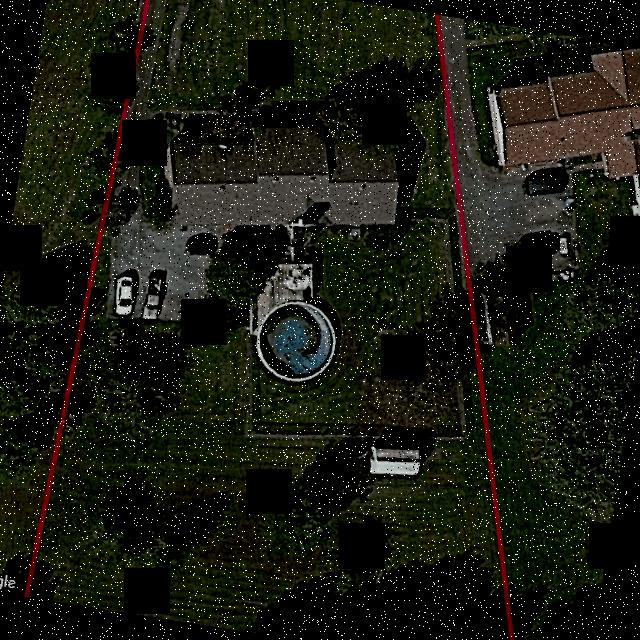Driveway: (107, 211, 211, 321)
House: (168, 131, 402, 226)
Other: (256, 304, 337, 383), (257, 264, 312, 324), (369, 446, 420, 476)
